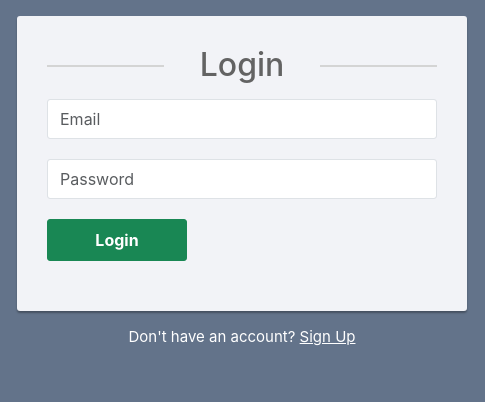
Test: LoginPage component › handles failed login with 403 error
Type "test@example.com" into the field with placeholder "Email" at (242, 119), box [47, 99, 437, 139]
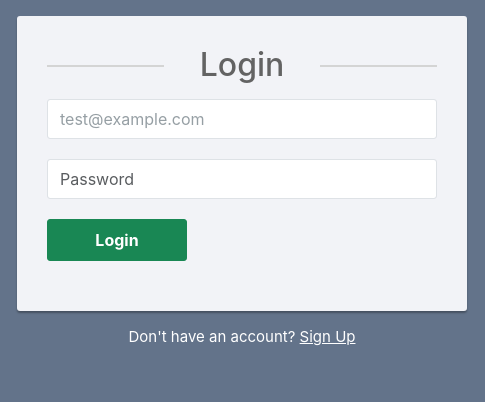
Type "testPassword" into the password field with placeholder "Password" at (242, 179), box [47, 159, 437, 199]
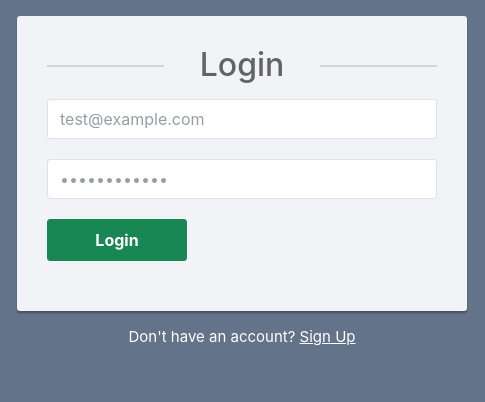
Submit the form from the button with test id "login", box [47, 219, 187, 261]
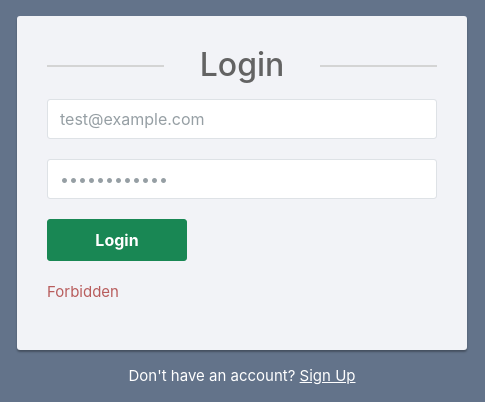
Expected: the text "Forbidden" is shown, [47, 282, 119, 301]
